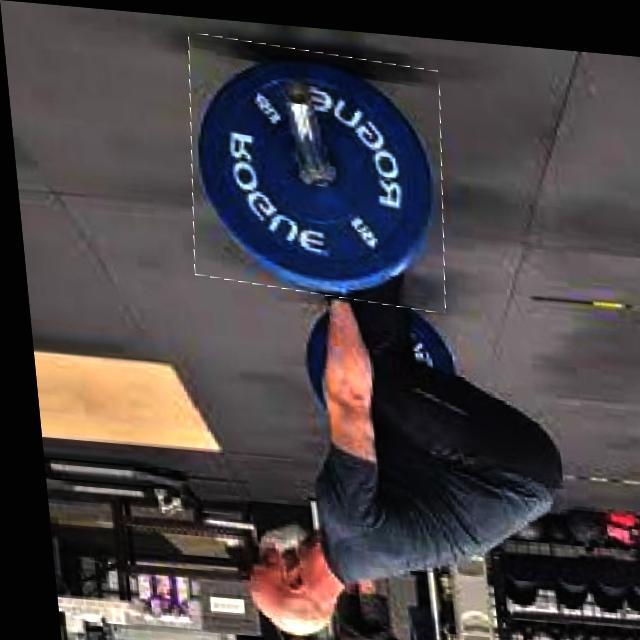barbell: (177, 33, 453, 303)
